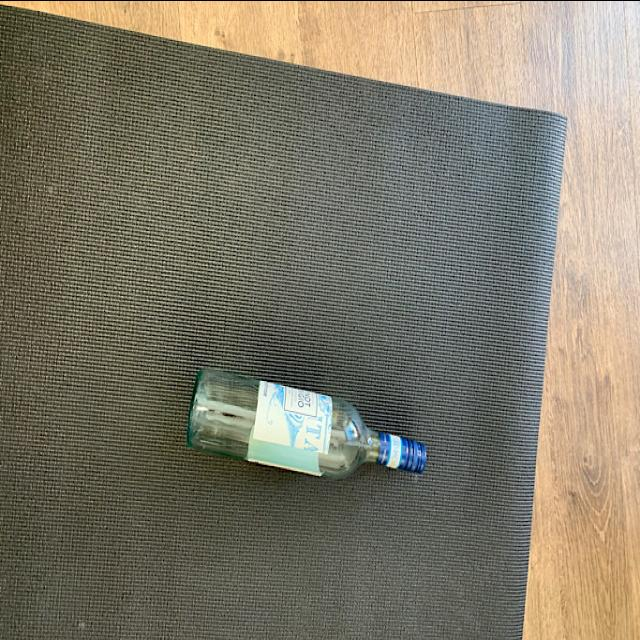Glass Bottle: (190, 355, 434, 494)
